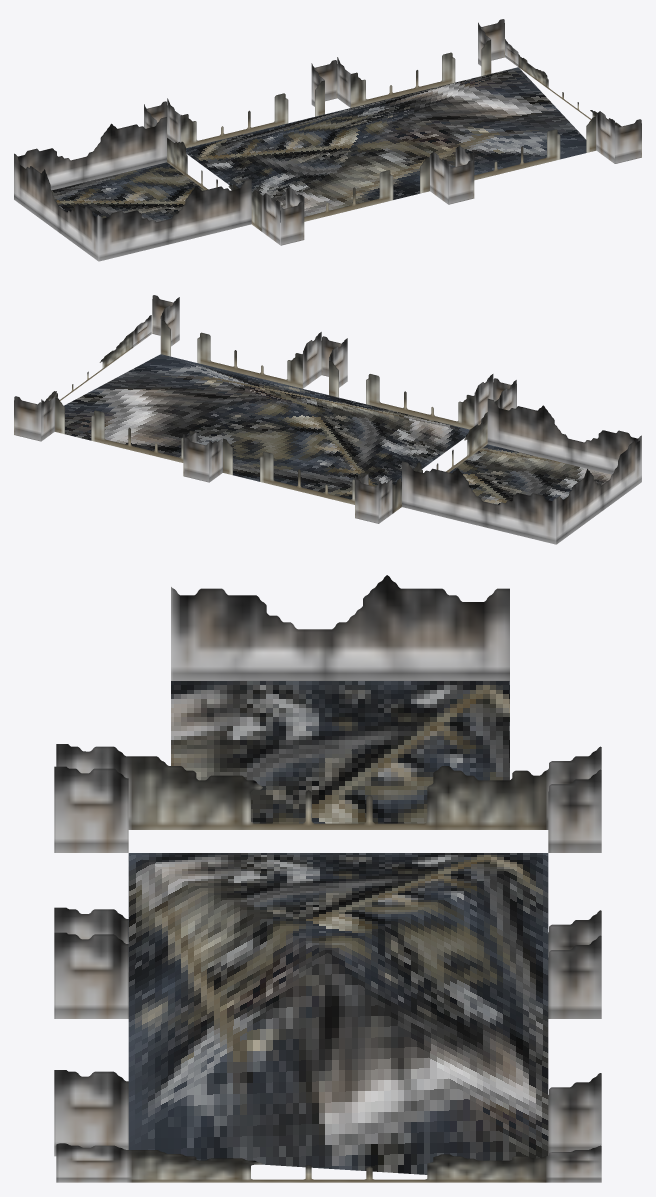
Rendered from s_gatecontrol_dam.glb.
3 views of the same model, one above another, from view 1: azimuth 30°, elevation 25°; view 2: azimuth 150°, elevation 25°; view 3: azimuth 270°, elevation 25° (orthographic). The views are drawn at different scales.
Parts seen in each view (by area): view 1: S_GateControlDAM; view 2: S_GateControlDAM; view 3: S_GateControlDAM.
Part boxes in pixels (<box>): S_GateControlDAM: <box>14,19,641,261</box>; S_GateControlDAM: <box>14,295,641,544</box>; S_GateControlDAM: <box>54,575,601,1182</box>.
Bounding box in the file's own units: 21.35 × 2.13 × 9.85.
2 materials, 2 textured.
